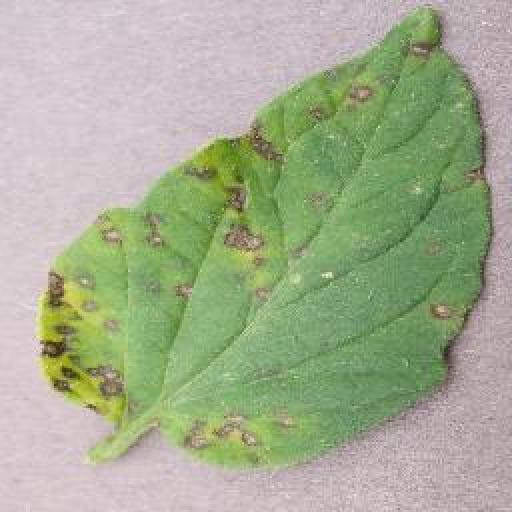Septoria: (39, 8, 495, 473)
